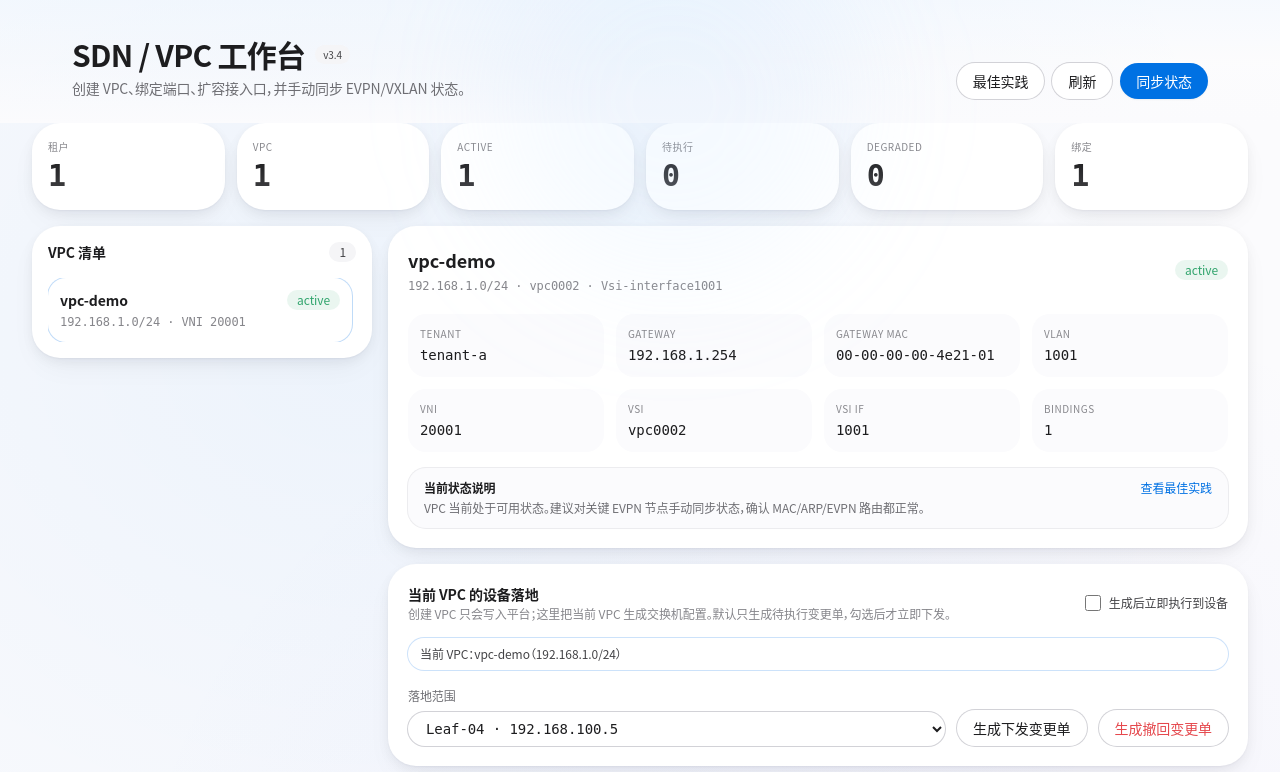
Scenario: SdnVpcWorkspace.vue › syncs validation for selected VPC and device
Click the button "同步状态" at (1164, 80), box [1120,62,1208,98]
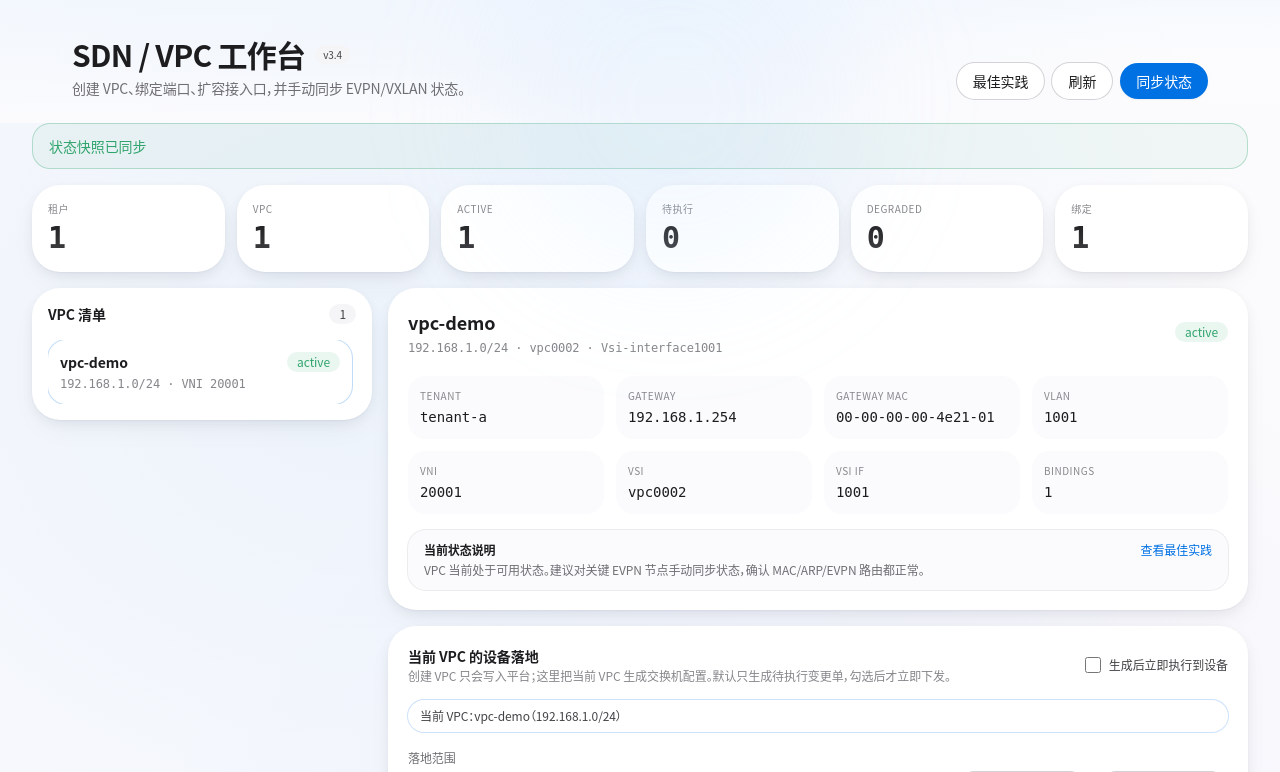
Expected: the text "状态快照已同步" is shown, [32,122,1248,168]
